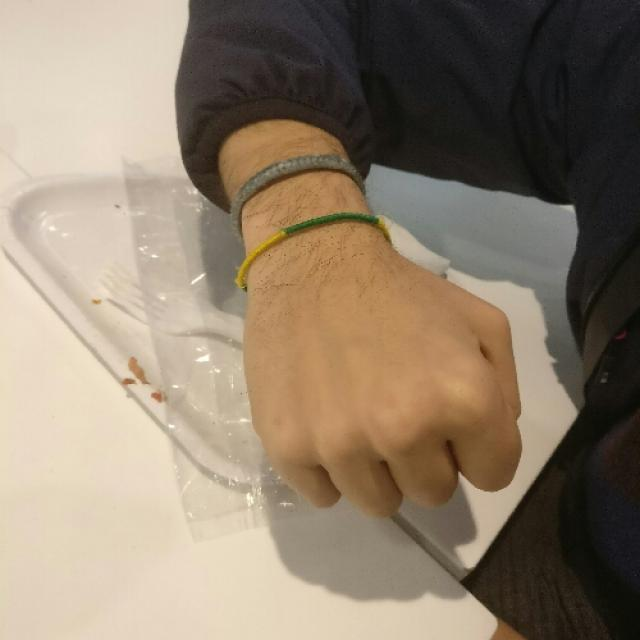fist: (238, 235, 536, 528)
